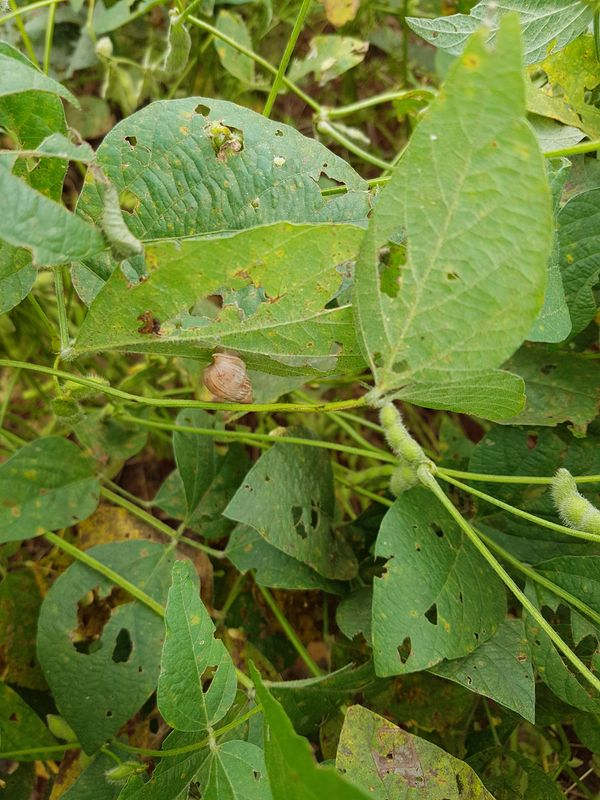Gastropoda: (195, 343, 261, 409)
